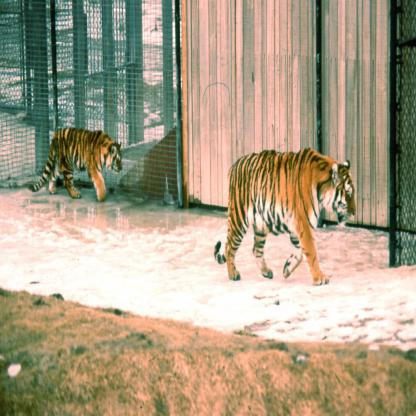tiger: (330, 158, 361, 229), (105, 137, 124, 176), (127, 146, 130, 148)
